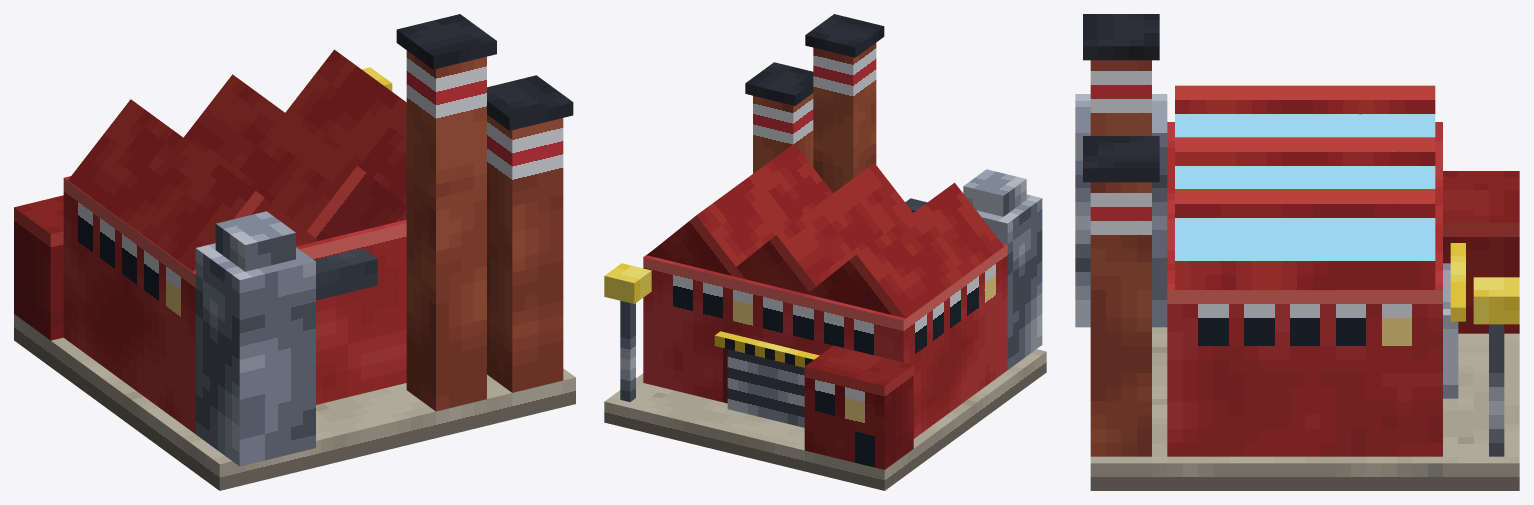
The model's file is factory_red.glb.
3 renders of one model, left to right at view 1: azimuth 30°, elevation 25°; view 2: azimuth 150°, elevation 25°; view 3: azimuth 270°, elevation 25°, orthographic. The views are drawn at different scales.
Parts seen in each view (by area): view 1: body; view 2: body; view 3: body.
Part boxes in pixels (x1,y1,x2,y2): body: [14, 14, 575, 490]; body: [604, 14, 1046, 490]; body: [1075, 14, 1519, 490].
Size of the model in its own units: 0.875 by 0.9062 by 0.9062.
Materials: 1 (1 with a texture image).
